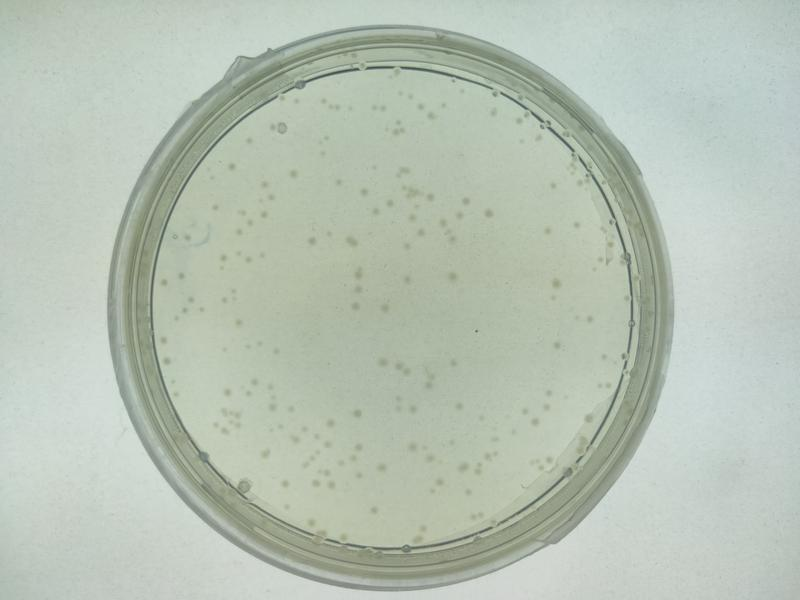colony: (437, 262, 466, 293), (344, 401, 377, 424), (473, 203, 503, 228), (314, 404, 341, 431), (540, 272, 570, 293), (533, 221, 561, 243), (538, 333, 566, 355), (399, 433, 424, 457), (523, 414, 553, 434), (396, 267, 418, 294), (281, 162, 304, 187), (299, 229, 325, 251), (268, 341, 291, 365), (343, 297, 368, 319), (374, 298, 396, 321), (347, 258, 368, 282), (372, 458, 396, 479), (448, 395, 470, 417), (354, 182, 378, 202), (226, 313, 251, 332), (365, 503, 383, 522)
